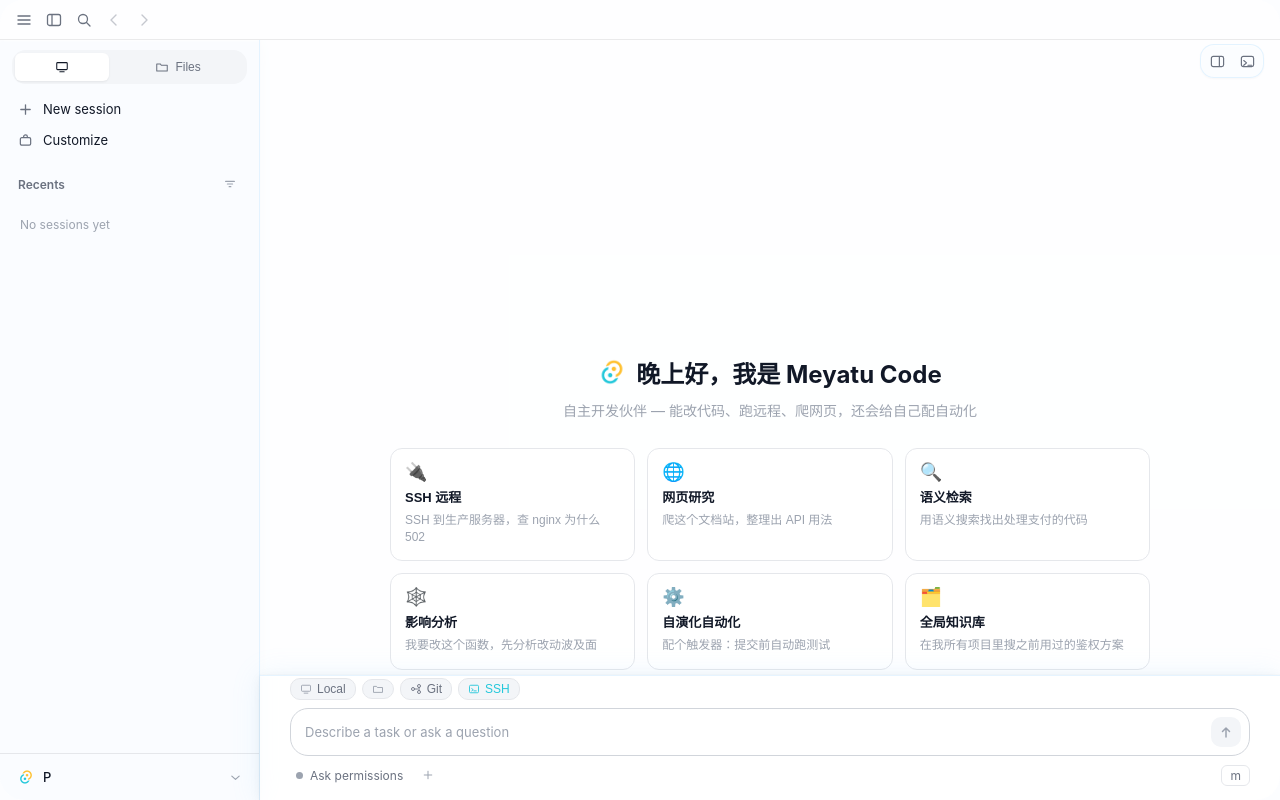
ChatWindow integration › clicking a welcome capability card fills the composer
The width and height of the screenshot is (1280, 800).
Click the text "用语义搜索找出处理支付的代码": (1004, 520) [920, 512, 1088, 529]
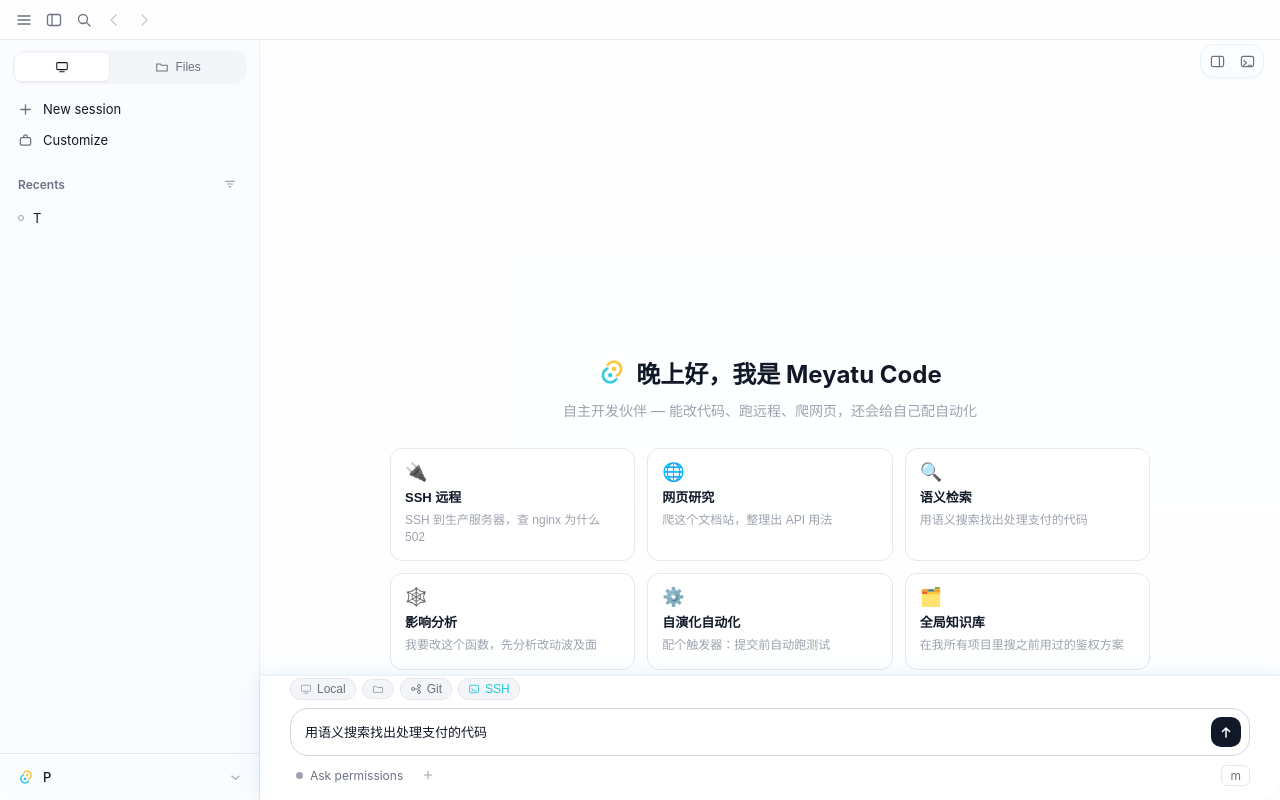
expect the text box named "Chat message input" holds "用语义搜索找出处理支付的代码": met, box [305, 719, 1203, 747]
